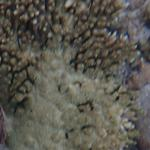dead: (6, 2, 148, 145)
